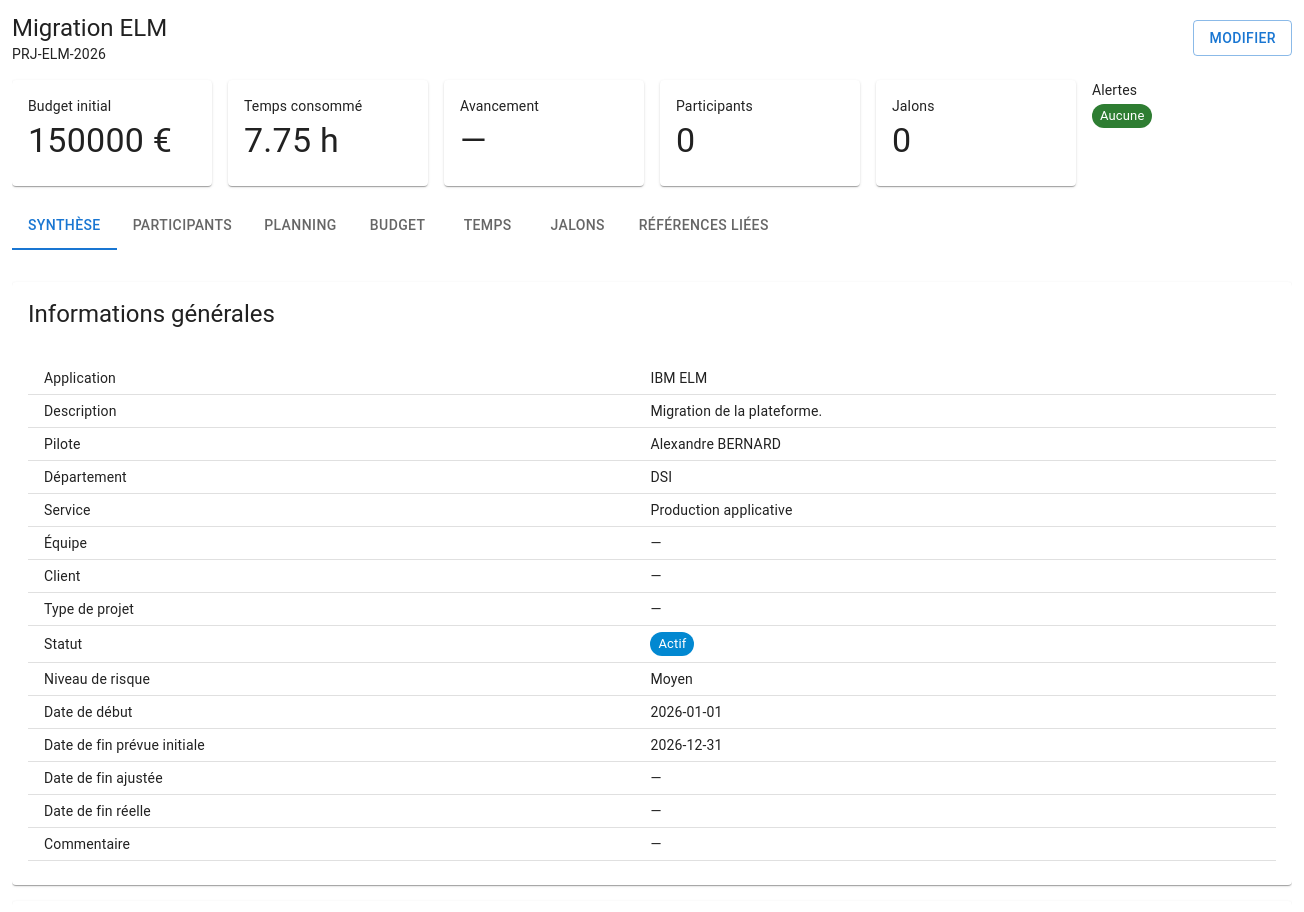
Test case: ProjectDetailPage › shows budget data once the current identity holds FINANCIAL_DATA_VIEW
Expected: the heading "Migration ELM" is shown, left=12, top=12, right=167, bottom=44
Click the tab "Budget".
click(398, 226)  # box left=353, top=202, right=443, bottom=250
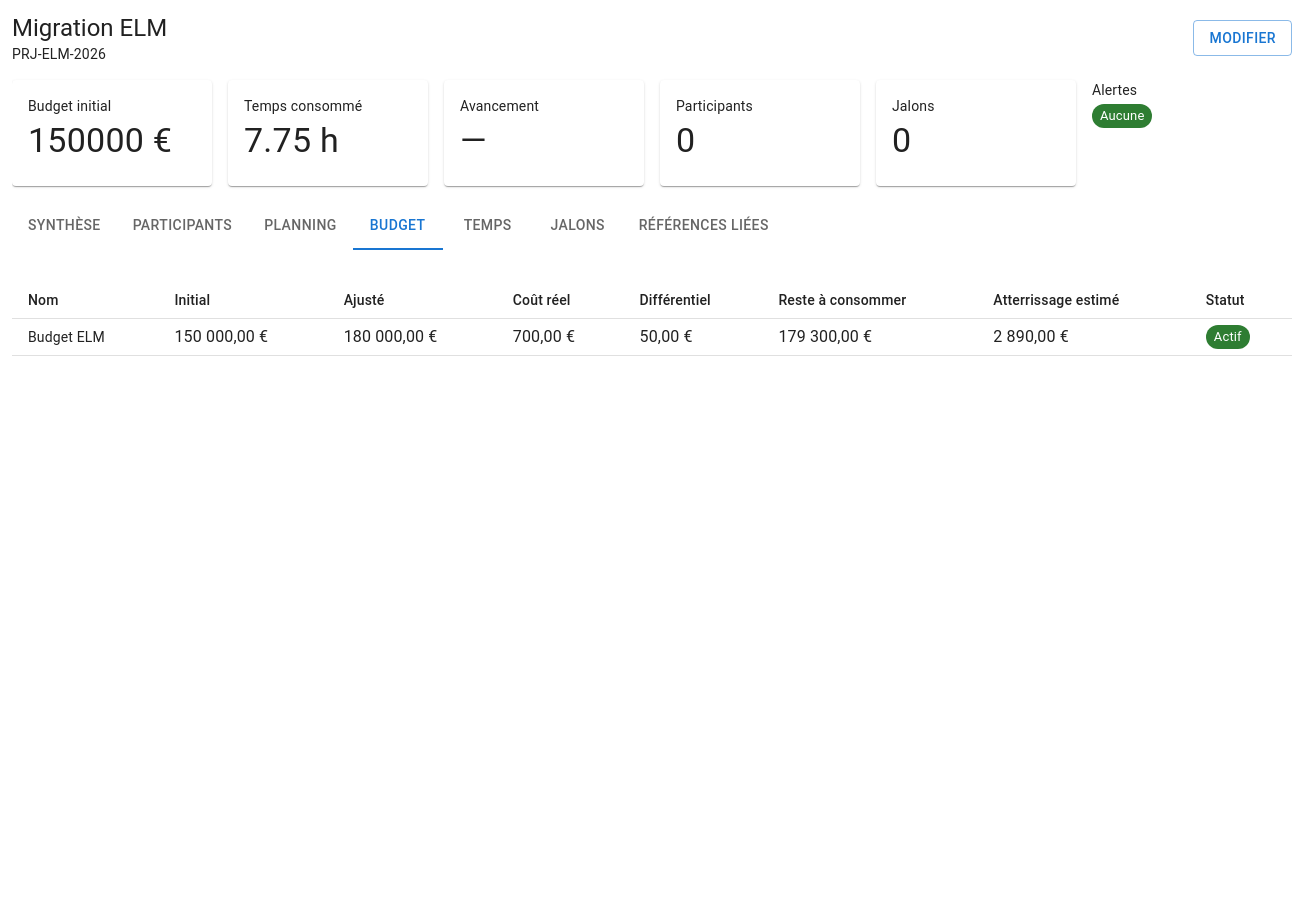
Result: the text "Budget ELM" is shown at left=12, top=318, right=158, bottom=356
